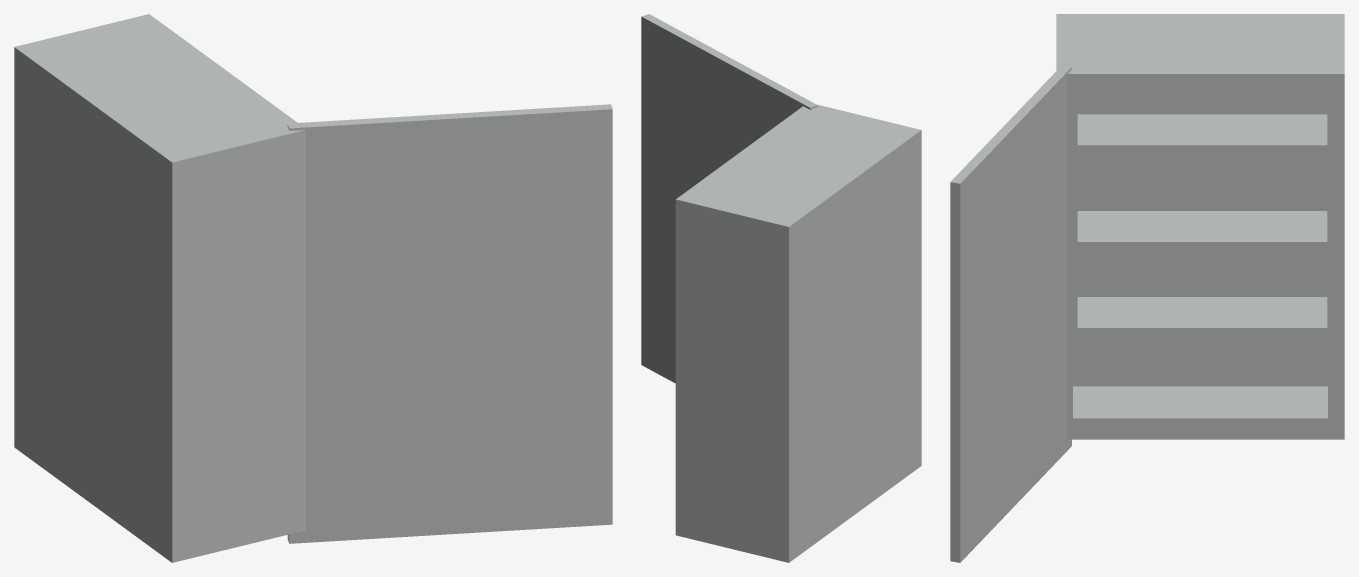
File: ASM - PBR Metallic Roughness.glb
3 views of the same model, side by side, from view 1: azimuth 30°, elevation 25°; view 2: azimuth 150°, elevation 25°; view 3: azimuth 270°, elevation 25° (orthographic). The views are drawn at different scales.
Visible parts, largest first — view 1: pCube1, pCube5; view 2: pCube1, pCube5; view 3: pCube1, pCube5, pCube2, pCube4, pCube3.
Boxes of the visible parts, <box> form: pCube1: <box>14,14,305,562</box>; pCube5: <box>287,104,612,543</box>; pCube1: <box>675,104,921,562</box>; pCube5: <box>641,14,817,383</box>; pCube1: <box>1056,14,1344,439</box>; pCube5: <box>950,65,1071,562</box>; pCube2: <box>1077,297,1327,343</box>; pCube4: <box>1077,114,1327,160</box>; pCube3: <box>1077,211,1327,257</box>.
Bounding box in the file's own units: 0.238 × 0.2445 × 0.2305.
1 material, 1 textured.
